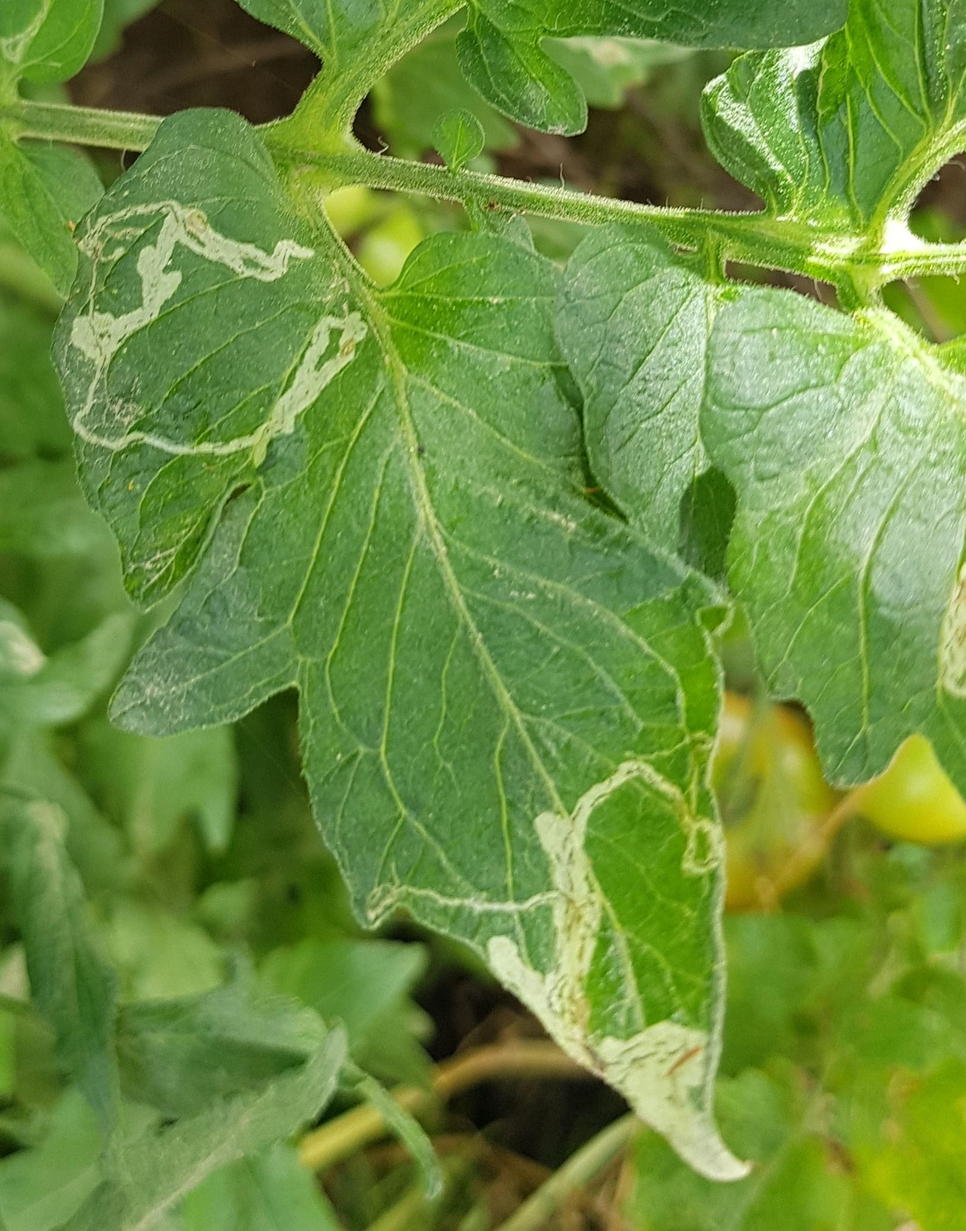Leaf_Miner: (49, 104, 758, 1182)
